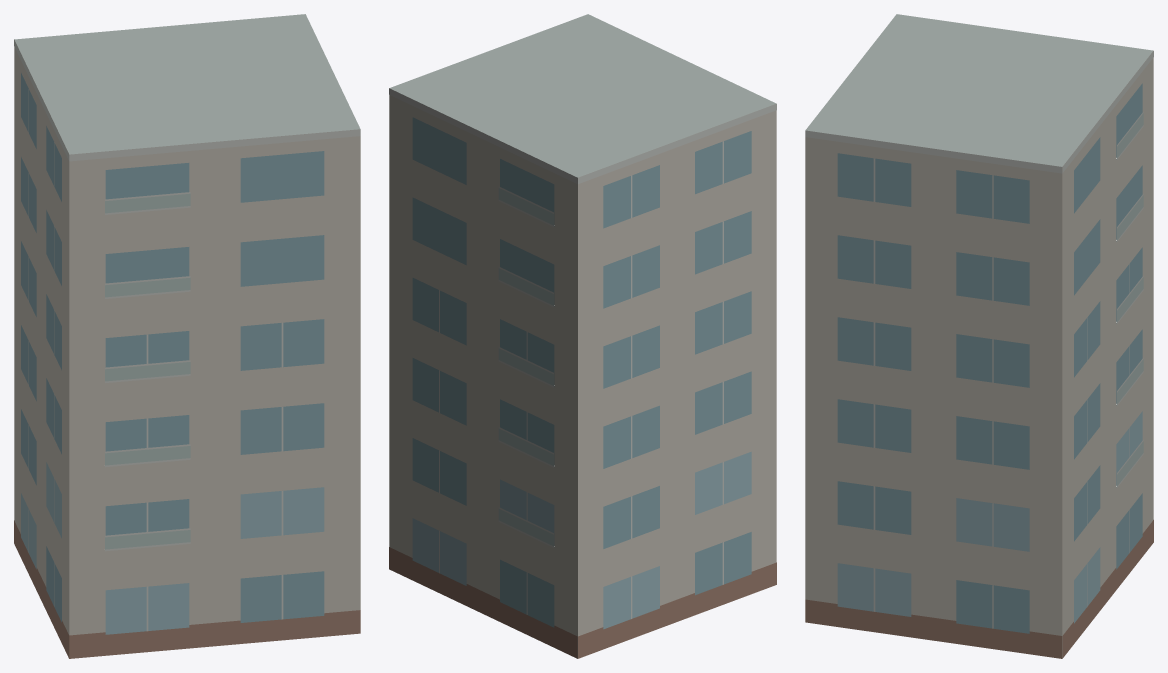
Rendered from survey-upis-32728338.glb.
3 views of the same model, side by side, from view 1: azimuth 30°, elevation 25°; view 2: azimuth 150°, elevation 25°; view 3: azimuth 270°, elevation 25° (orthographic). The views are drawn at different scales.
Parts seen in each view (by area): view 1: survey-upis-32728338.tmp; view 2: survey-upis-32728338.tmp; view 3: survey-upis-32728338.tmp.
Part boxes in pixels (x1=…): survey-upis-32728338.tmp: x1=14, y1=14, x2=360, y2=658; survey-upis-32728338.tmp: x1=389, y1=14, x2=776, y2=658; survey-upis-32728338.tmp: x1=805, y1=14, x2=1153, y2=658.
Bounding box in the file's own units: 11.94 × 17.9 × 11.5.
